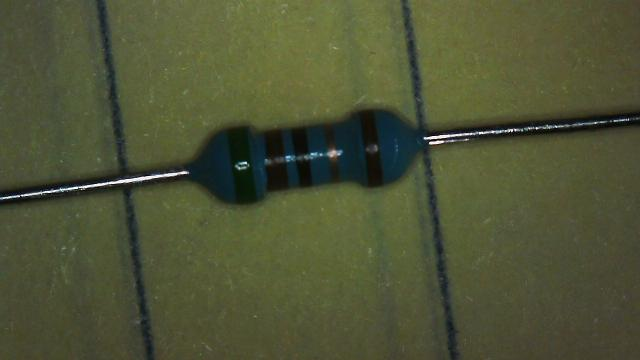black: (292, 128, 312, 187)
brown: (360, 110, 383, 186), (264, 130, 288, 190)
gold: (324, 124, 339, 181)
green: (228, 127, 256, 203)
resistor: (192, 103, 426, 203)
